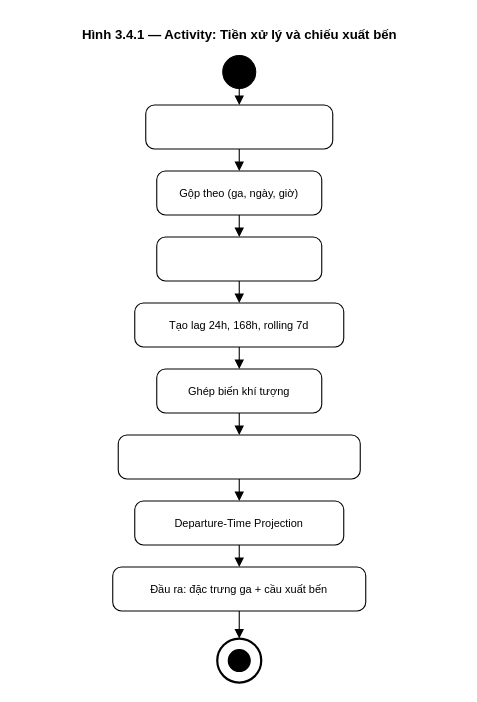
The diagram is 477 pixels wide and 702 high, and some of its shapes have lost their labels. The box of each missing label's shape, as (x1, y1, x2, y2) in pixels:
Mã hóa chu kỳ sin/cos: (156, 236, 322, 281)
Nạp ridership, GTFS, thời tiết: (145, 104, 333, 149)
Tính ma trận trọng số ga → tuyến: (117, 434, 360, 479)
